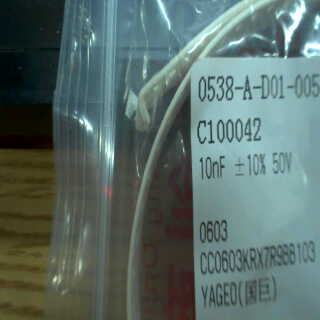10nF: (196, 152, 232, 185)
